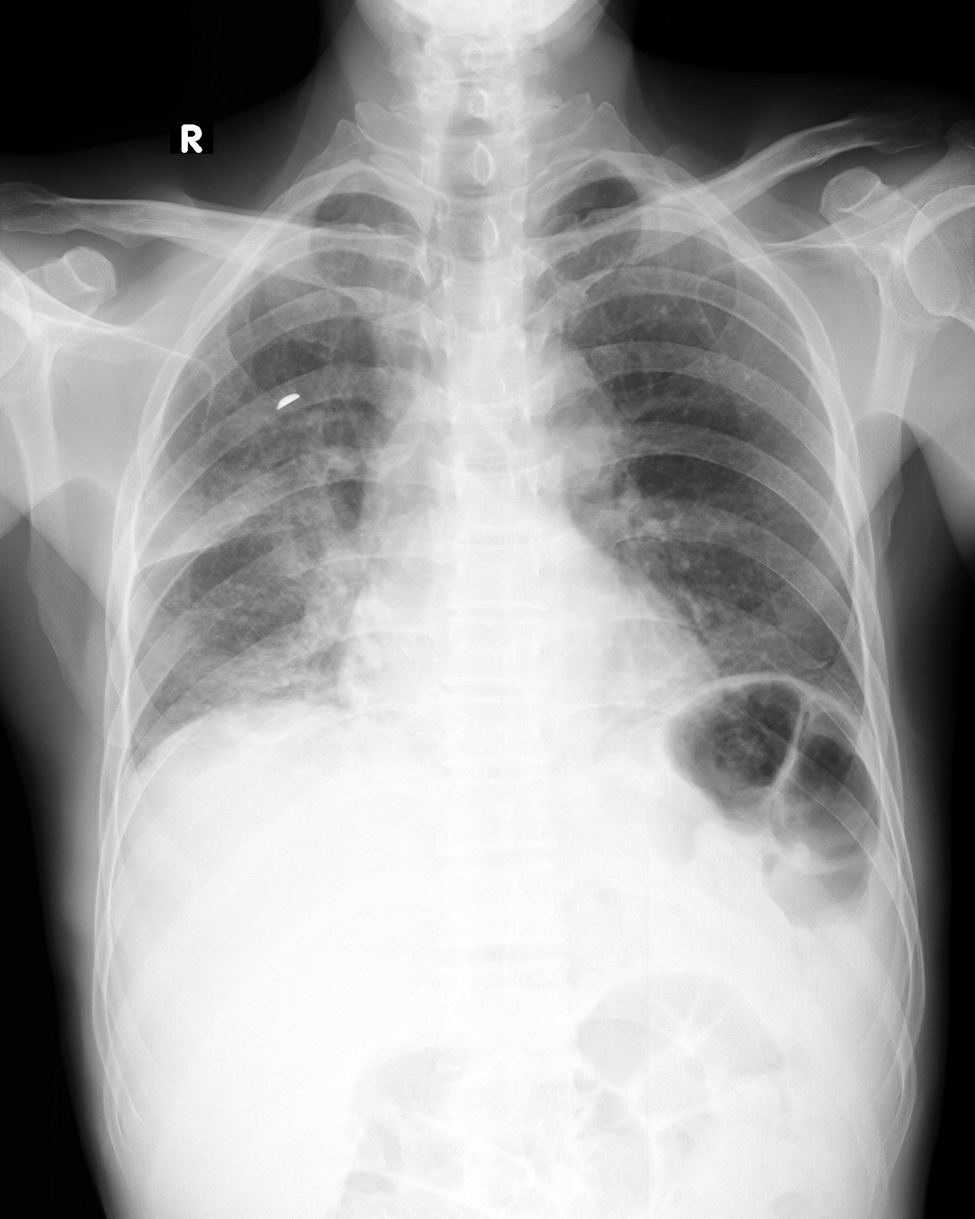Aortic enlargement: (410, 337, 620, 526)
